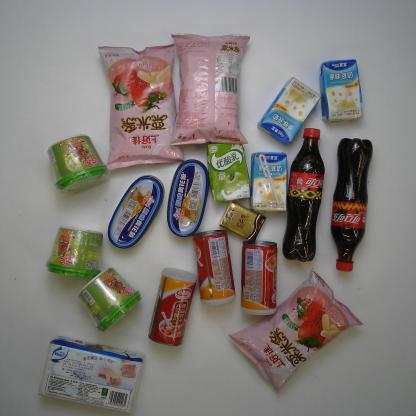Canned Food: (106, 174, 165, 249), (146, 267, 198, 347), (166, 158, 210, 238), (192, 229, 236, 306), (239, 239, 279, 316)
Drink: (281, 127, 326, 263), (330, 136, 374, 273)
Instant Drink: (76, 266, 144, 333), (46, 134, 110, 196), (44, 225, 104, 280)
Milk: (256, 76, 322, 144), (318, 58, 364, 124), (206, 142, 251, 204), (248, 150, 288, 213)
Puffed Food: (227, 266, 364, 395), (96, 43, 184, 171), (168, 32, 252, 146)
Tissue: (37, 336, 145, 414), (219, 199, 267, 244)
